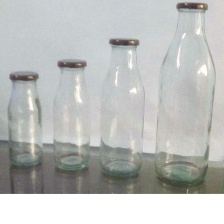bottle: (152, 0, 218, 189), (97, 32, 146, 185), (50, 54, 93, 172), (3, 65, 44, 167)
